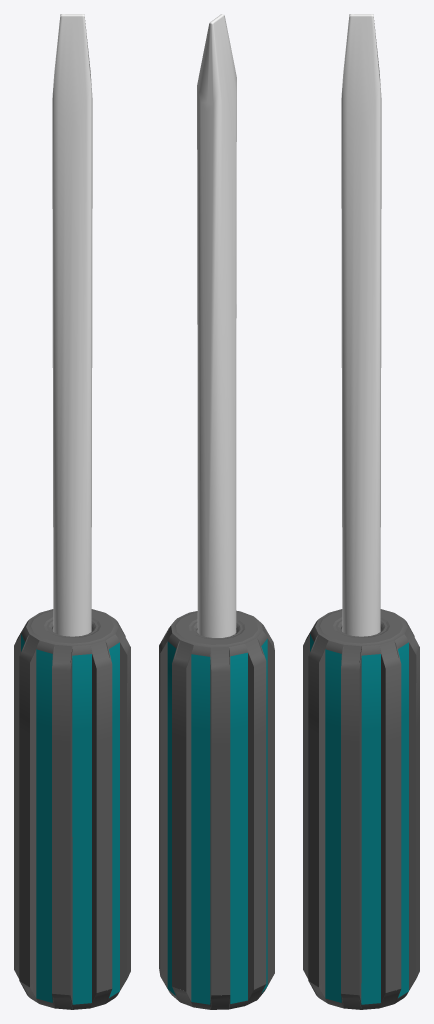
The model's file is Destornillador.fbx.
3 renders of one model, left to right at view 1: azimuth 90°, elevation 25°; view 2: azimuth 150°, elevation 25°; view 3: azimuth 270°, elevation 25°, orthographic.
Visible parts, largest first — view 1: Cylinder001; view 2: Cylinder001; view 3: Cylinder001.
Part boxes in pixels (x1,y1,x2,y2): Cylinder001: [14, 14, 130, 1009]; Cylinder001: [159, 14, 274, 1009]; Cylinder001: [303, 14, 419, 1009].
Size of the model in its own units: 404 by 3764 by 404.
